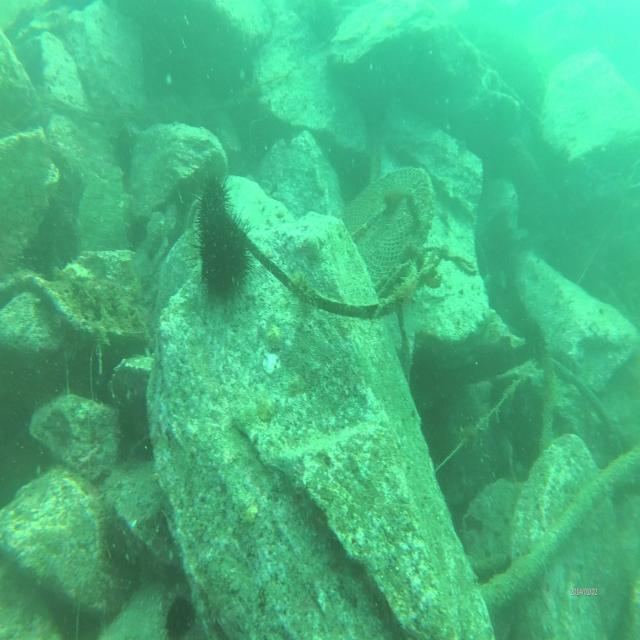echinus: (188, 213, 258, 305), (98, 516, 136, 583), (193, 172, 235, 228), (158, 600, 198, 638)
holothurian: (394, 264, 417, 304)
